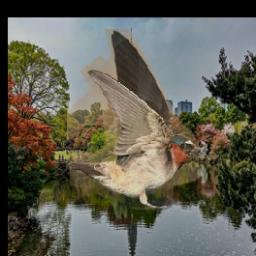Swallow: (67, 30, 199, 211)
